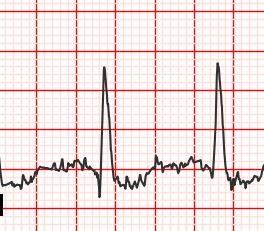Pathological Q Wave: (83, 154, 108, 200)
